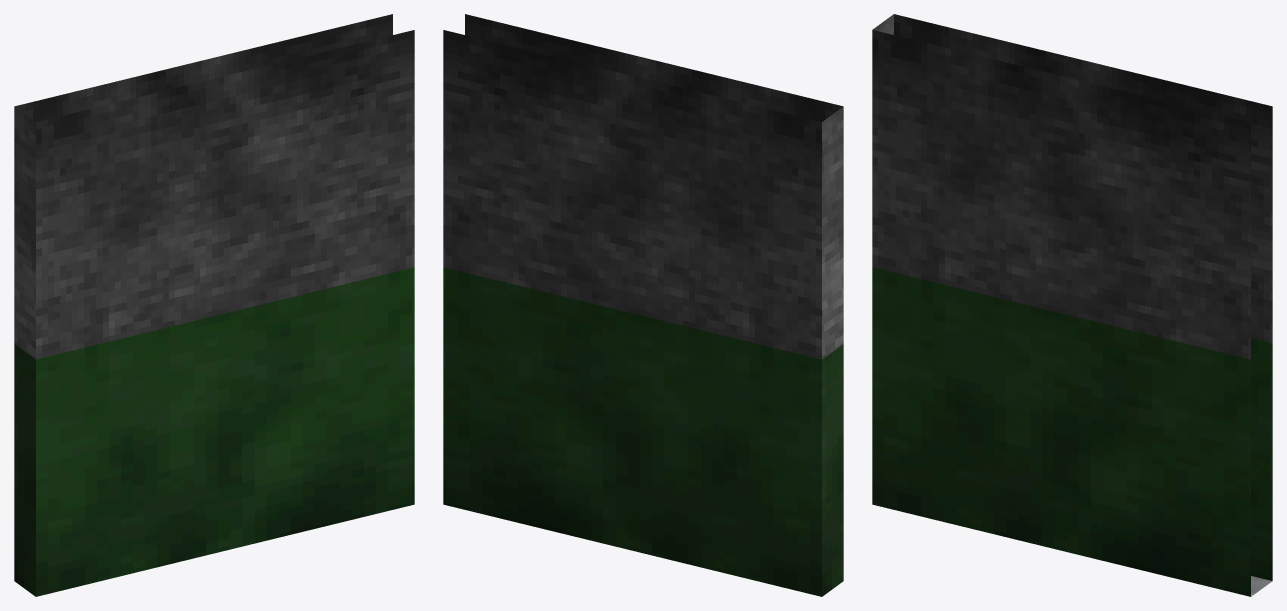
The model's file is primary_286.glb.
3 renders of one model, left to right at view 1: azimuth 30°, elevation 25°; view 2: azimuth 150°, elevation 25°; view 3: azimuth 330°, elevation 25°, orthographic.
Visible parts, largest first — view 1: Object; view 2: Object; view 3: Object.
Boxes of the visible parts, bbox=[...] form: Object: bbox=[14, 14, 414, 596]; Object: bbox=[443, 14, 843, 596]; Object: bbox=[872, 14, 1272, 596].
Size of the model in its own units: 2.03 by 2.43 by 0.2009.
Materials: 6 (6 with a texture image).
